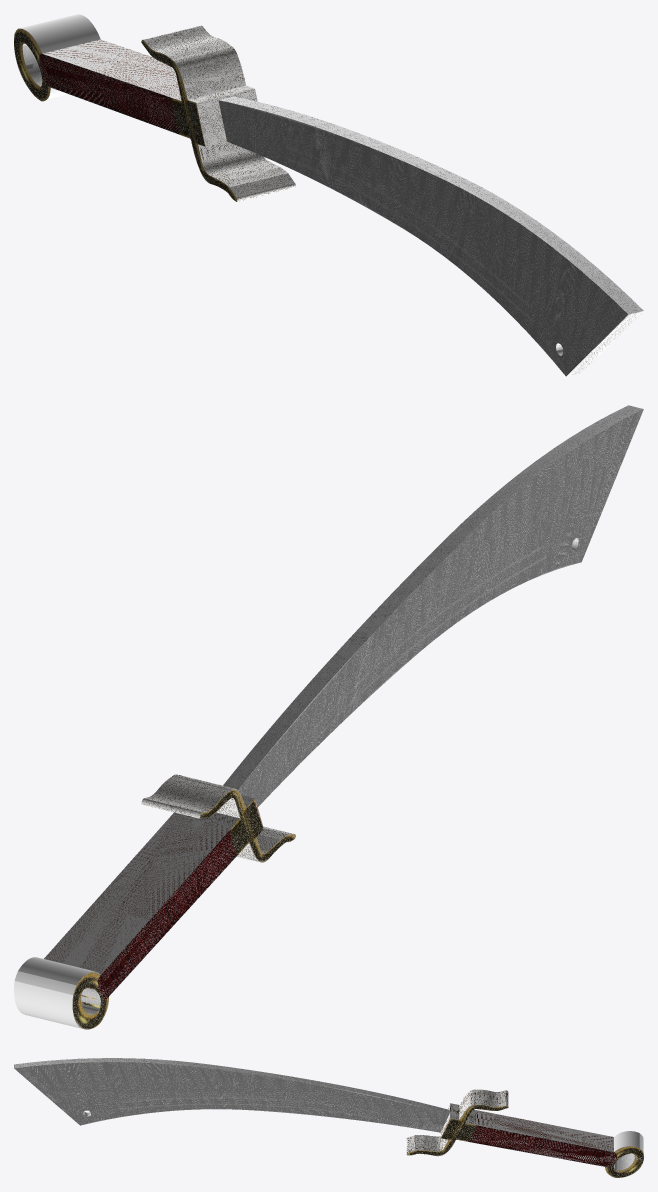
Rendered from model_scale.obj.
3 renders of one model, top to bottom at view 1: azimuth 30°, elevation 25°; view 2: azimuth 150°, elevation 25°; view 3: azimuth 270°, elevation 25°, orthographic. The views are drawn at different scales.
Visible parts, largest first — view 1: mesh1_mesh1-geometry; view 2: mesh1_mesh1-geometry; view 3: mesh1_mesh1-geometry.
Boxes of the visible parts, left/top/right/bottom form: mesh1_mesh1-geometry: left=14, top=14, right=643, bottom=376; mesh1_mesh1-geometry: left=14, top=405, right=643, bottom=1029; mesh1_mesh1-geometry: left=14, top=1058, right=643, bottom=1177.
Size of the model in its own units: 0.0118 by 0.0401 by 0.2075.
6 materials, 4 textured.
